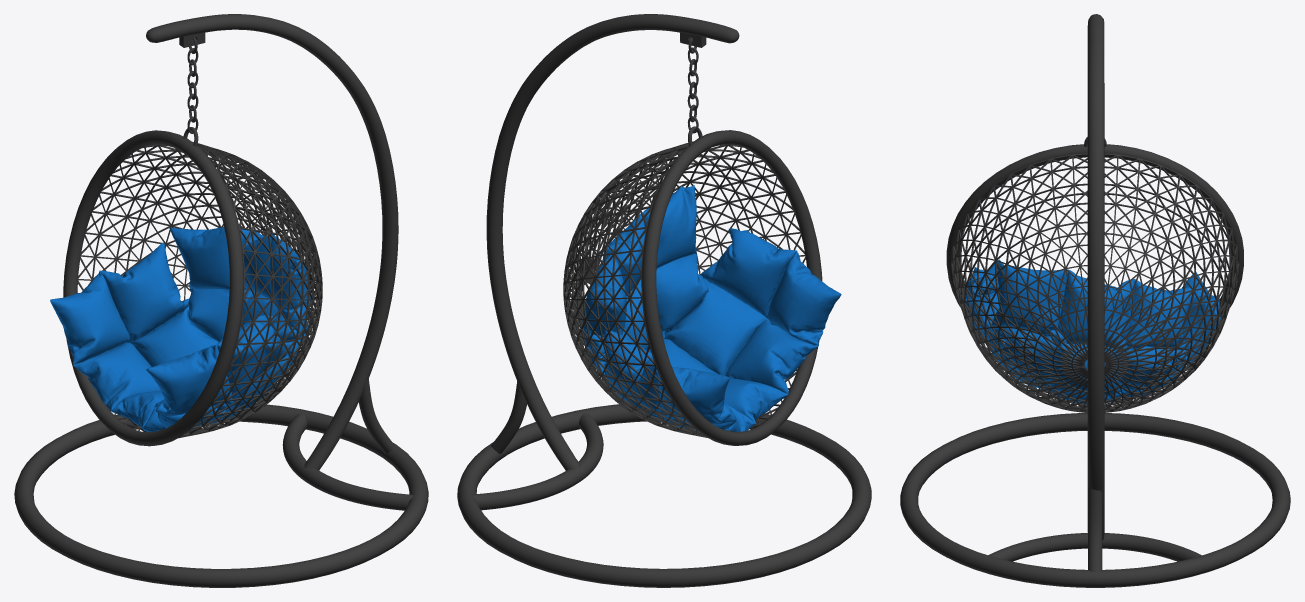
The model's file is basket_swing_chair (1) (1).glb.
3 renders of one model, left to right at view 1: azimuth 30°, elevation 25°; view 2: azimuth 150°, elevation 25°; view 3: azimuth 270°, elevation 25°, orthographic. The views are drawn at different scales.
Parts seen in each view (by area): view 1: cushion, basket, part6, part2, part5, part8, part1, part7; view 2: cushion, basket, part6, part2, part5, part8, part1, part7; view 3: basket, part6, cushion, part2, part5, part8, part1.
Boxes of the visible parts, <box> form: cushion: <box>50,226,310,432</box>; basket: <box>78,141,322,438</box>; part6: <box>14,404,428,587</box>; part2: <box>146,14,398,470</box>; part5: <box>63,130,243,446</box>; part8: <box>282,413,413,510</box>; part1: <box>358,378,395,453</box>; part7: <box>183,37,198,146</box>; cushion: <box>582,185,841,431</box>; basket: <box>563,141,805,437</box>; part6: <box>457,404,871,587</box>; part2: <box>486,14,739,470</box>; part5: <box>642,130,822,445</box>; part8: <box>472,413,603,510</box>; part1: <box>491,381,526,453</box>; part7: <box>687,37,702,146</box>; basket: <box>951,153,1239,412</box>; part6: <box>900,413,1290,587</box>; cushion: <box>964,259,1220,404</box>; part2: <box>1087,14,1104,540</box>; part5: <box>946,144,1243,314</box>; part8: <box>988,533,1201,561</box>; part1: <box>1088,487,1102,571</box>.
Size of the model in its own units: 2.09 by 2.74 by 2.09.
